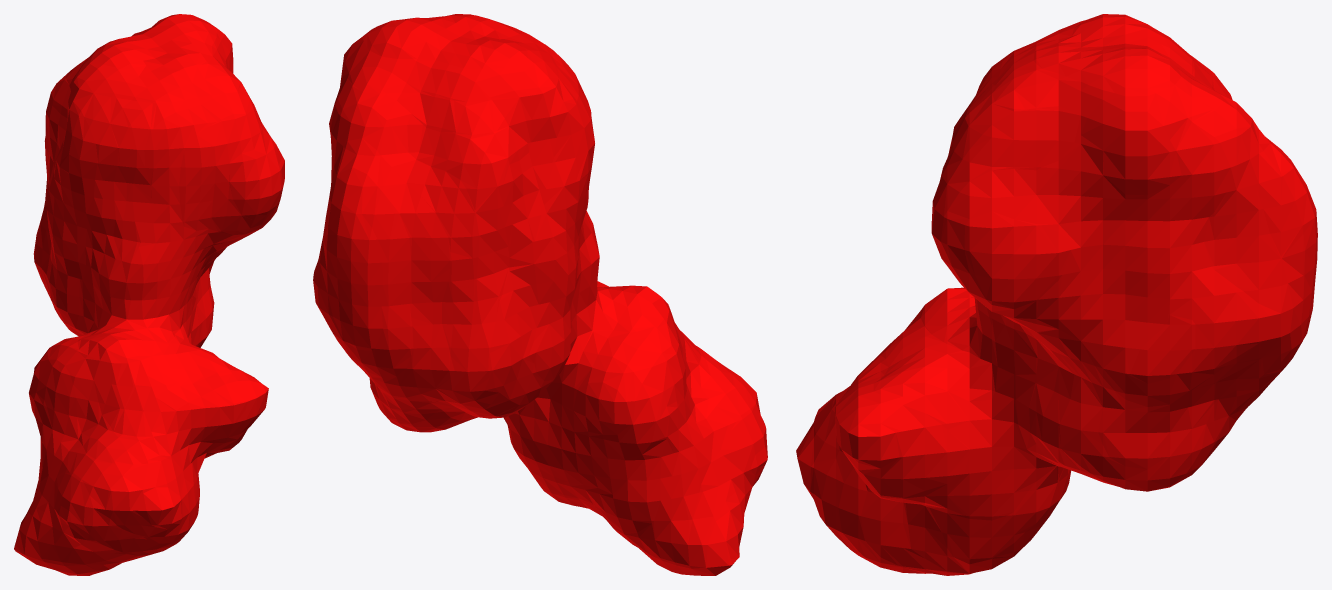
File: pdhR_coarse.dae
The picture shows the model from 3 angles, left to right: view 1: azimuth 30°, elevation 25°; view 2: azimuth 150°, elevation 25°; view 3: azimuth 270°, elevation 25°; orthographic projection. The views are drawn at different scales.
Parts seen in each view (by area): view 1: pdhR; view 2: pdhR; view 3: pdhR.
Part boxes in pixels (bbox=[...]): pdhR: bbox=[14, 14, 284, 575]; pdhR: bbox=[313, 14, 767, 575]; pdhR: bbox=[796, 14, 1317, 575].
Size of the model in its own units: 44.92 by 74.25 by 55.94.
